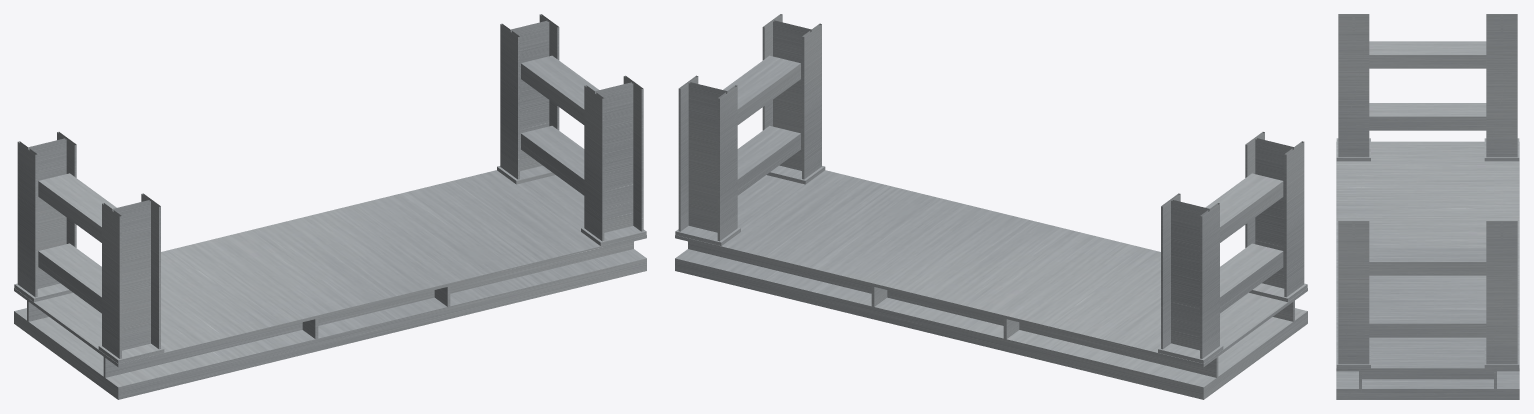
The picture shows the model from 3 angles, left to right: view 1: azimuth 30°, elevation 25°; view 2: azimuth 150°, elevation 25°; view 3: azimuth 270°, elevation 25°; orthographic projection. The views are drawn at different scales.
Parts seen in each view (by area): view 1: Object341; view 2: Object341; view 3: Object341.
Boxes of the visible parts, box(x1,y1,x2,y2) form: Object341: box(14, 14, 646, 399); Object341: box(675, 14, 1307, 399); Object341: box(1336, 14, 1519, 399).
Bounding box in the file's own units: 448 × 148 × 153.
